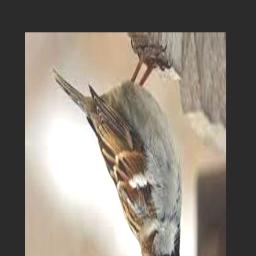Sparrow: (53, 42, 188, 256)
